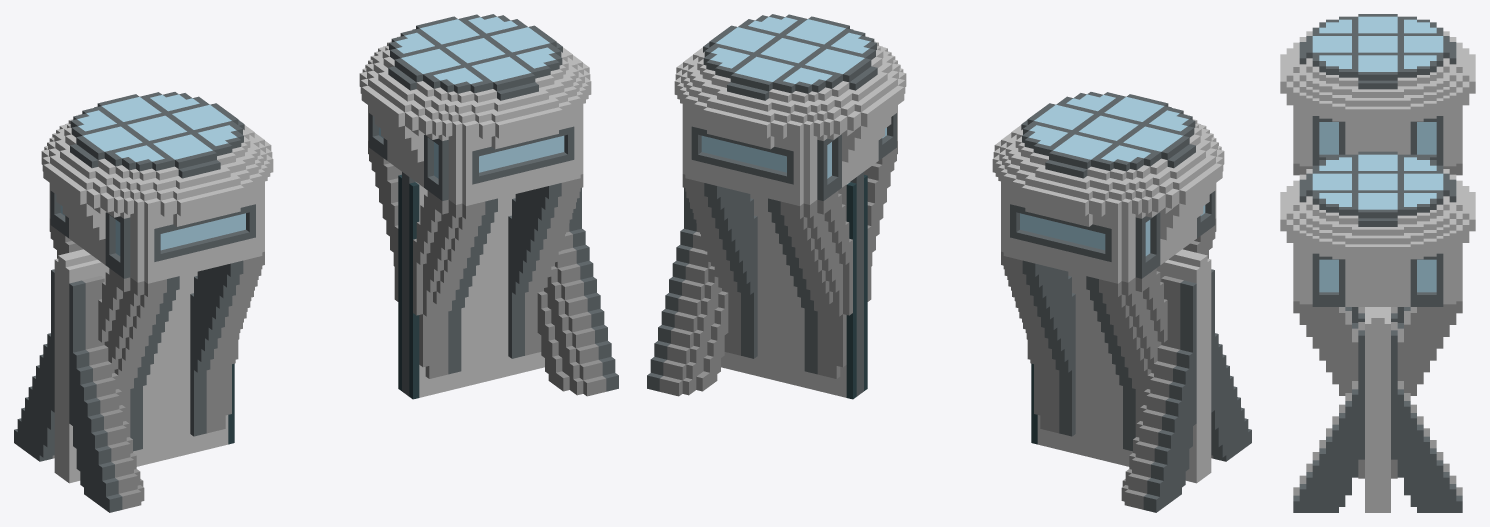
Rendered from wall4_gate.obj.
3 renders of one model, left to right at view 1: azimuth 30°, elevation 25°; view 2: azimuth 150°, elevation 25°; view 3: azimuth 270°, elevation 25°, orthographic. The views are drawn at different scales.
Bounding box in the file's own units: 8 × 4.9 × 3.
Materials: 1 (1 with a texture image).
